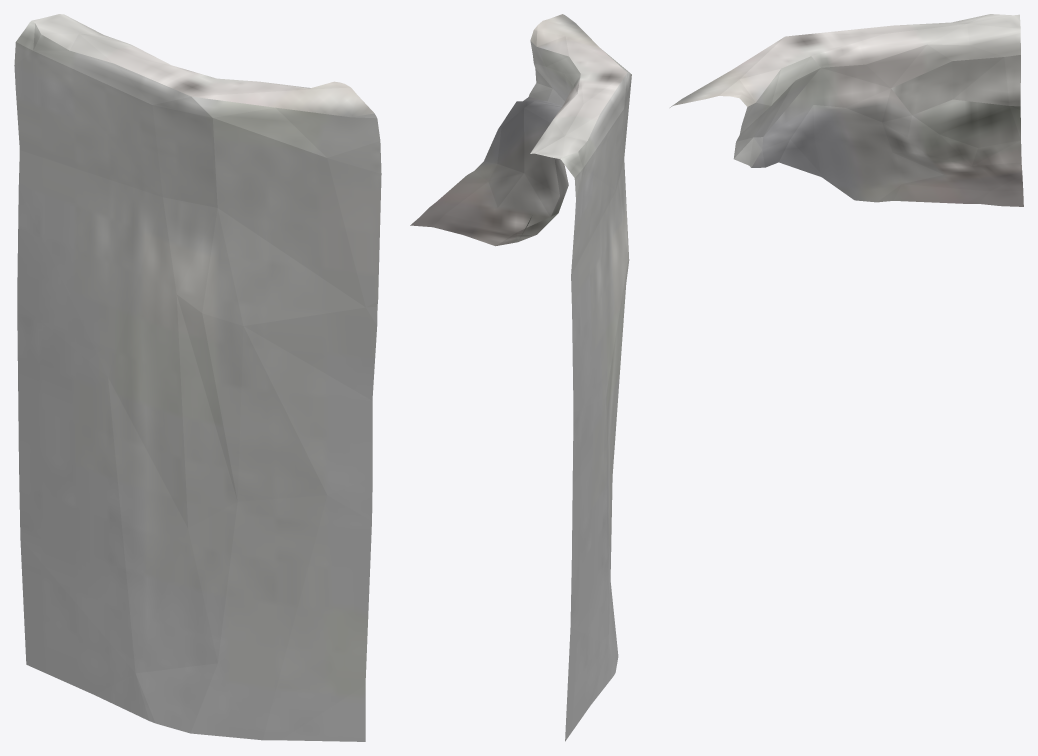
Rendered from Tile_+012_+009_L20_000003520.glb.
The picture shows the model from 3 angles, left to right: view 1: azimuth 30°, elevation 25°; view 2: azimuth 150°, elevation 25°; view 3: azimuth 270°, elevation 25°; orthographic projection. The views are drawn at different scales.
Visible parts, largest first — view 1: rtc; view 2: rtc; view 3: rtc.
Boxes of the visible parts, x1,y1,x2,y2 form: rtc: (14, 14, 381, 741); rtc: (410, 14, 631, 741); rtc: (670, 14, 1023, 206).
Size of the model in its own units: 2.22 by 7.28 by 3.72.
1 material, 1 textured.
